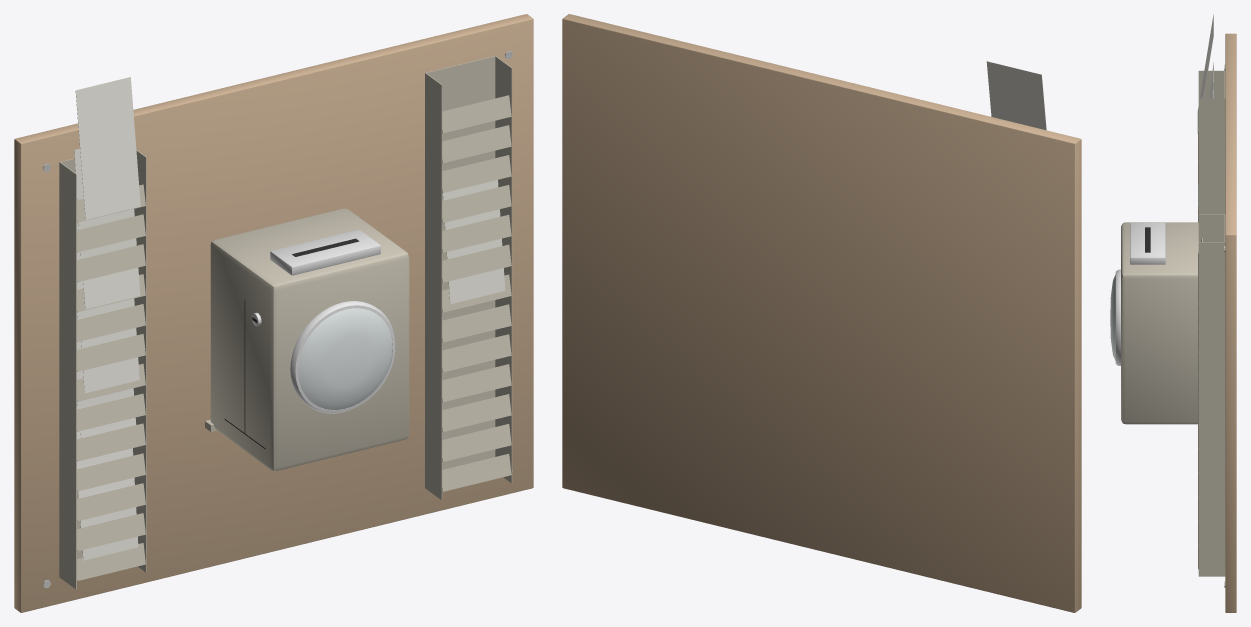
The model's file is Kit_TimeClockStation_OneIn.fbx.
3 renders of one model, left to right at view 1: azimuth 30°, elevation 25°; view 2: azimuth 150°, elevation 25°; view 3: azimuth 270°, elevation 25°, orthographic. The views are drawn at different scales.
Parts seen in each view (by area): view 1: Kit_TimeClockStation_OneIn_LOD0; view 2: Kit_TimeClockStation_OneIn_LOD0; view 3: Kit_TimeClockStation_OneIn_LOD0.
Boxes of the visible parts, left/top/right/bottom form: Kit_TimeClockStation_OneIn_LOD0: left=14, top=14, right=533, bottom=612; Kit_TimeClockStation_OneIn_LOD0: left=562, top=14, right=1081, bottom=612; Kit_TimeClockStation_OneIn_LOD0: left=1110, top=14, right=1236, bottom=612.
Size of what is drawn, in the model's own units: 0.8 by 0.77 by 0.212.
